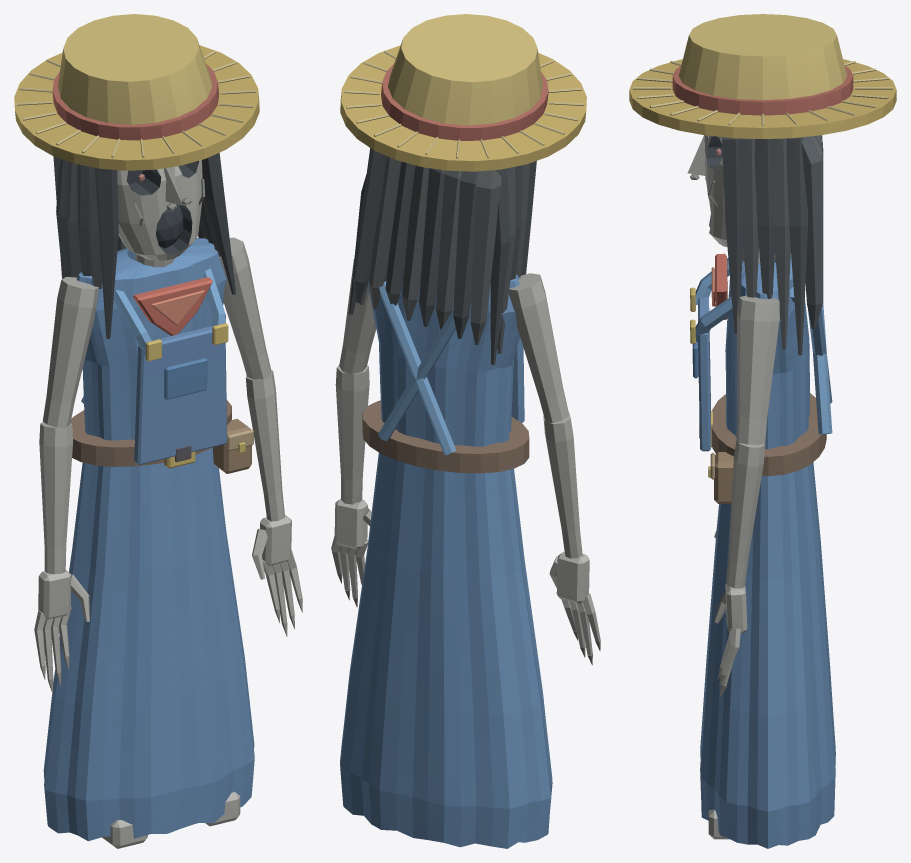
The model's file is SlendrinaFarmer.glb.
3 renders of one model, left to right at view 1: azimuth 30°, elevation 25°; view 2: azimuth 150°, elevation 25°; view 3: azimuth 270°, elevation 25°, orthographic.
Parts seen in each view (by area): view 1: Body, Head, ArmR, ArmL, LegR; view 2: Body, Head, ArmR, ArmL; view 3: Body, Head, ArmL.
Part boxes in pixels (left/top/right/bottom): Body: left=43, top=238, right=254, bottom=841; Head: left=14, top=14, right=259, bottom=338; ArmR: left=34, top=277, right=98, bottom=693; ArmL: left=219, top=237, right=302, bottom=636; LegR: left=102, top=820, right=147, bottom=848; Body: left=340, top=274, right=552, bottom=848; Head: left=340, top=14, right=586, bottom=364; ArmR: left=509, top=273, right=600, bottom=665; ArmL: left=331, top=259, right=376, bottom=607; Body: left=690, top=248, right=835, bottom=848; Head: left=629, top=14, right=896, bottom=355; ArmL: left=714, top=295, right=779, bottom=698.
Bounding box in the file's own units: 2.44 × 6.95 × 2.18.
